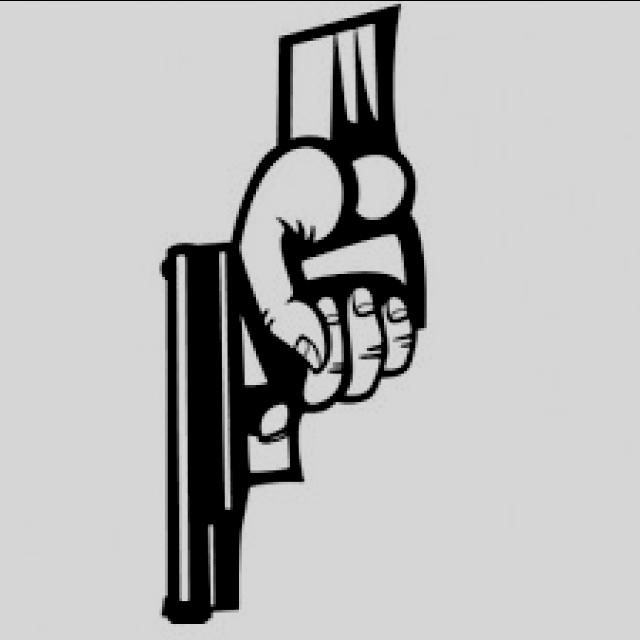handgun: (148, 224, 424, 626)
